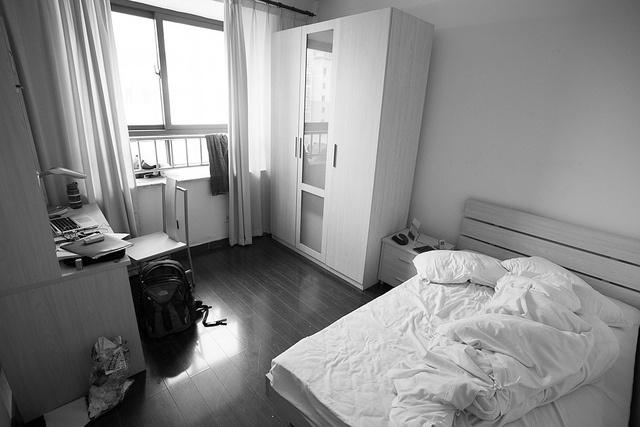Kursi: (124, 176, 195, 268)
Lemari: (269, 5, 391, 290)
